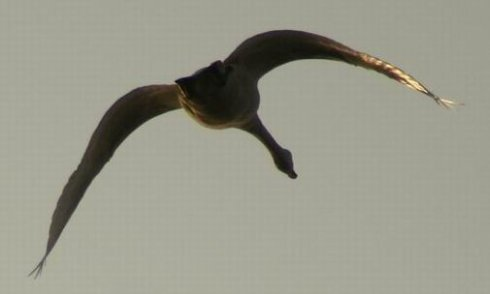bird: (25, 28, 457, 279)
